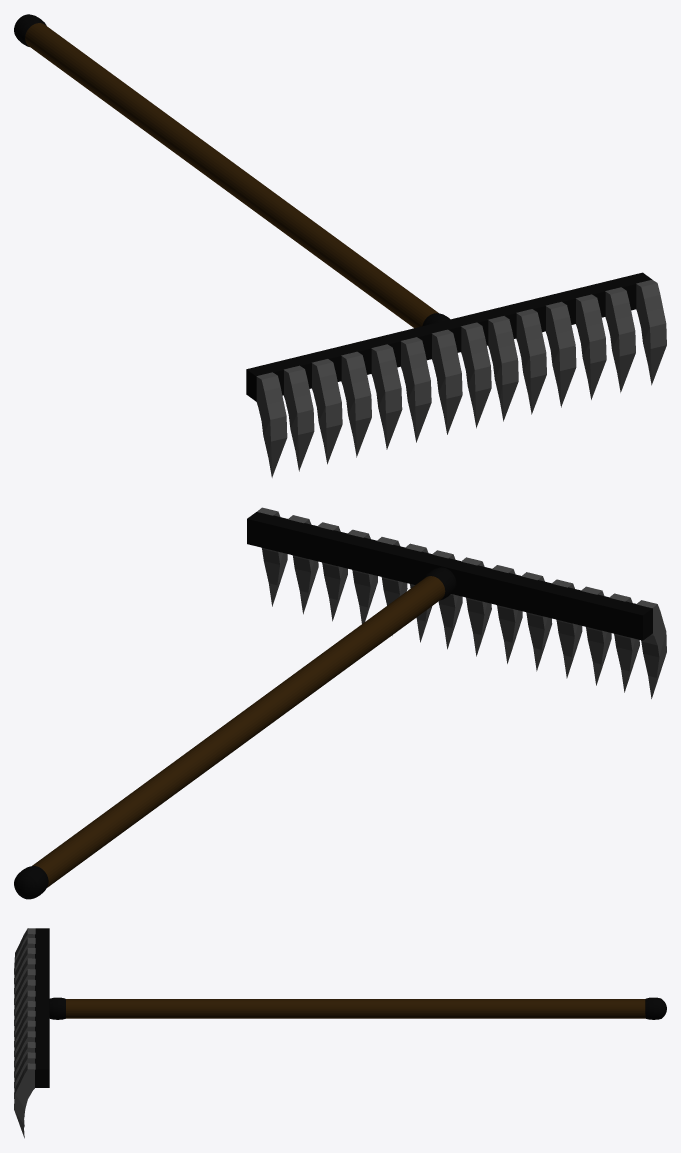
The model's file is rake.glb.
3 views of the same model, one above another, from view 1: azimuth 30°, elevation 25°; view 2: azimuth 150°, elevation 25°; view 3: azimuth 270°, elevation 25° (orthographic). The views are drawn at different scales.
Parts seen in each view (by area): view 1: blade, Cylinder, Cube.005, Torus; view 2: Cube.005, Cylinder, blade, Torus; view 3: Cylinder, blade, Cube.005, Torus.
Boxes of the visible parts, x1,y1,x2,y2 form: blade: (256, 279, 666, 477); Cylinder: (25, 23, 438, 328); Cube.005: (246, 272, 651, 401); Torus: (14, 14, 450, 326); Cube.005: (247, 512, 652, 640); Cylinder: (32, 576, 445, 887); blade: (257, 507, 666, 698); Torus: (14, 567, 456, 899); Cylinder: (66, 999, 645, 1018); blade: (14, 928, 35, 1138); Cube.005: (35, 928, 49, 1087); Torus: (49, 997, 666, 1019).
Bounding box in the file's own units: 1.8 × 0.4333 × 3.53.
Materials: 16 (16 with a texture image).
